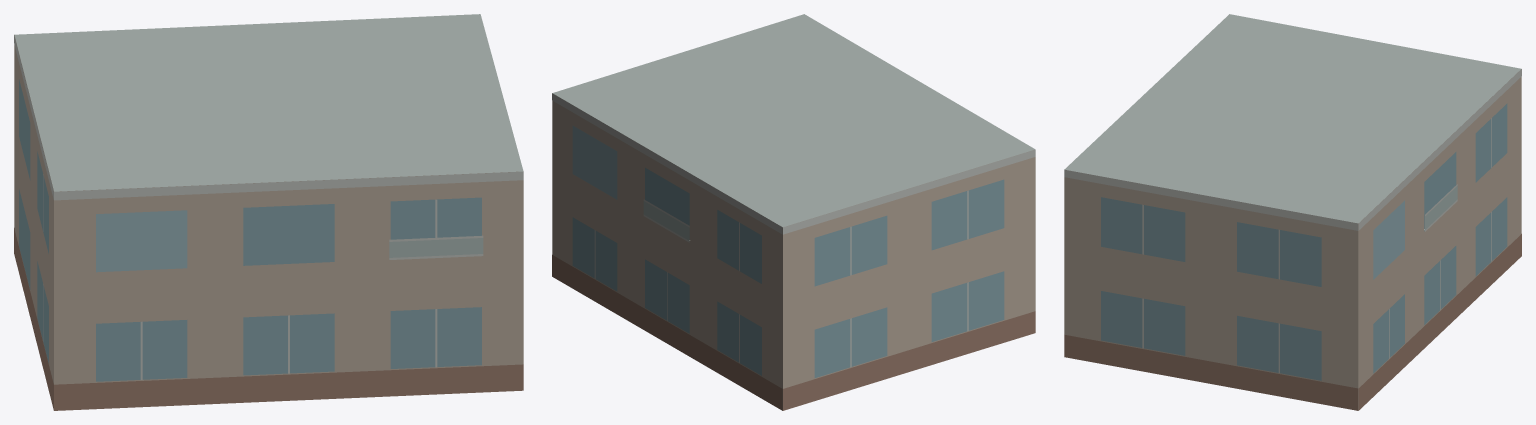
The model's file is survey-upis-32668607.glb.
3 renders of one model, left to right at view 1: azimuth 30°, elevation 25°; view 2: azimuth 150°, elevation 25°; view 3: azimuth 270°, elevation 25°, orthographic. The views are drawn at different scales.
Parts seen in each view (by area): view 1: survey-upis-32668607.tmp; view 2: survey-upis-32668607.tmp; view 3: survey-upis-32668607.tmp.
Boxes of the visible parts, x1=… form: survey-upis-32668607.tmp: x1=14, y1=14, x2=523, y2=410; survey-upis-32668607.tmp: x1=552, y1=14, x2=1035, y2=410; survey-upis-32668607.tmp: x1=1064, y1=14, x2=1521, y2=410.
Size of the model in its own units: 14.63 by 6.1 by 13.5.
